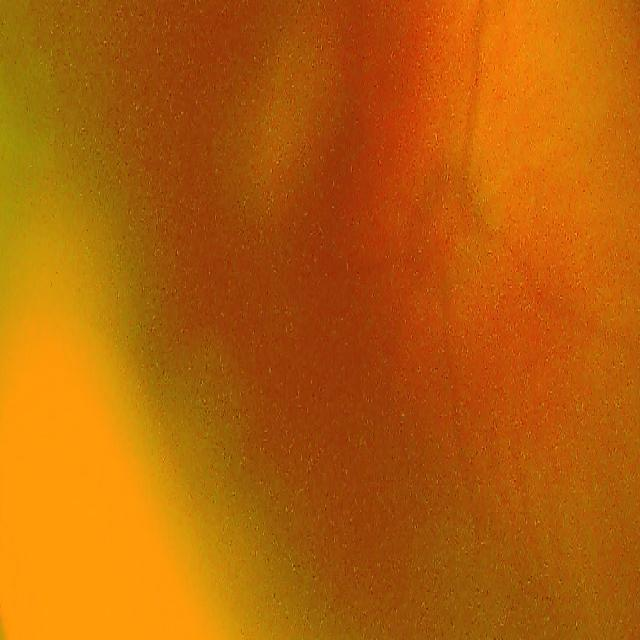optic-nerve: (388, 158, 502, 315)
